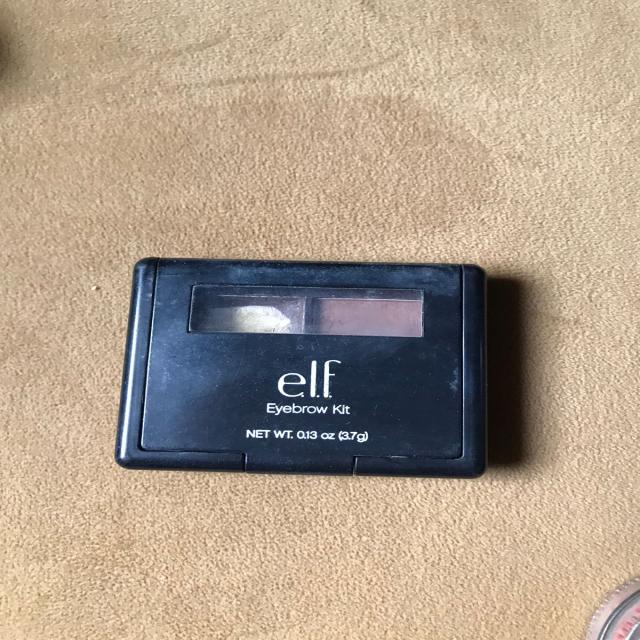highlighter: (177, 261, 439, 354)
